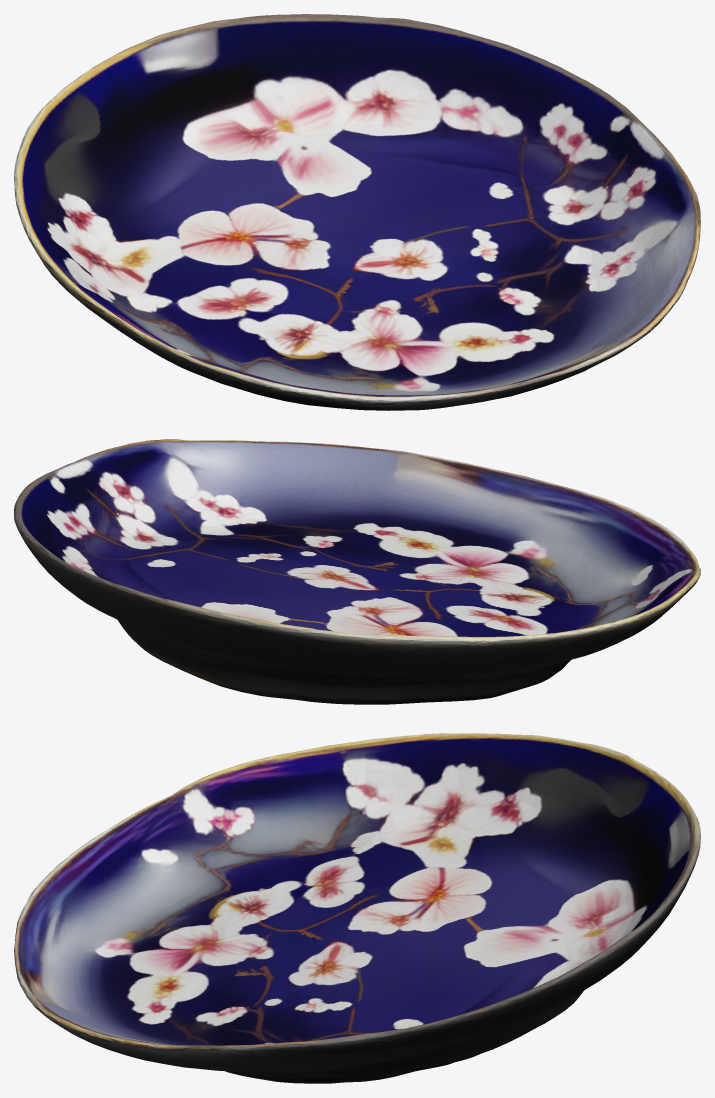
The model's file is porcelain-dessert-plate-japanese.jpeg.glb.
3 views of the same model, one above another, from view 1: azimuth 30°, elevation 25°; view 2: azimuth 150°, elevation 25°; view 3: azimuth 270°, elevation 25° (orthographic). The views are drawn at different scales.
Parts seen in each view (by area): view 1: world; view 2: world; view 3: world.
Boxes of the visible parts, x1=… form: world: x1=14, y1=14, x2=700, y2=410; world: x1=14, y1=439, x2=700, y2=704; world: x1=14, y1=733, x2=700, y2=1083.
Size of the model in its own units: 0.9976 by 0.28 by 0.9738.
1 material, 1 textured.
